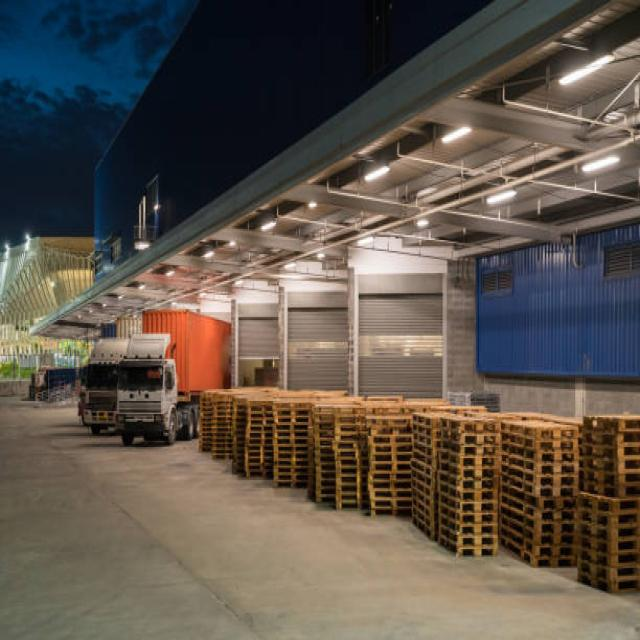Wooden-Pallets: (454, 411, 500, 451), (573, 483, 621, 519), (455, 545, 504, 575), (457, 493, 503, 522), (535, 418, 578, 449), (455, 458, 498, 482)
